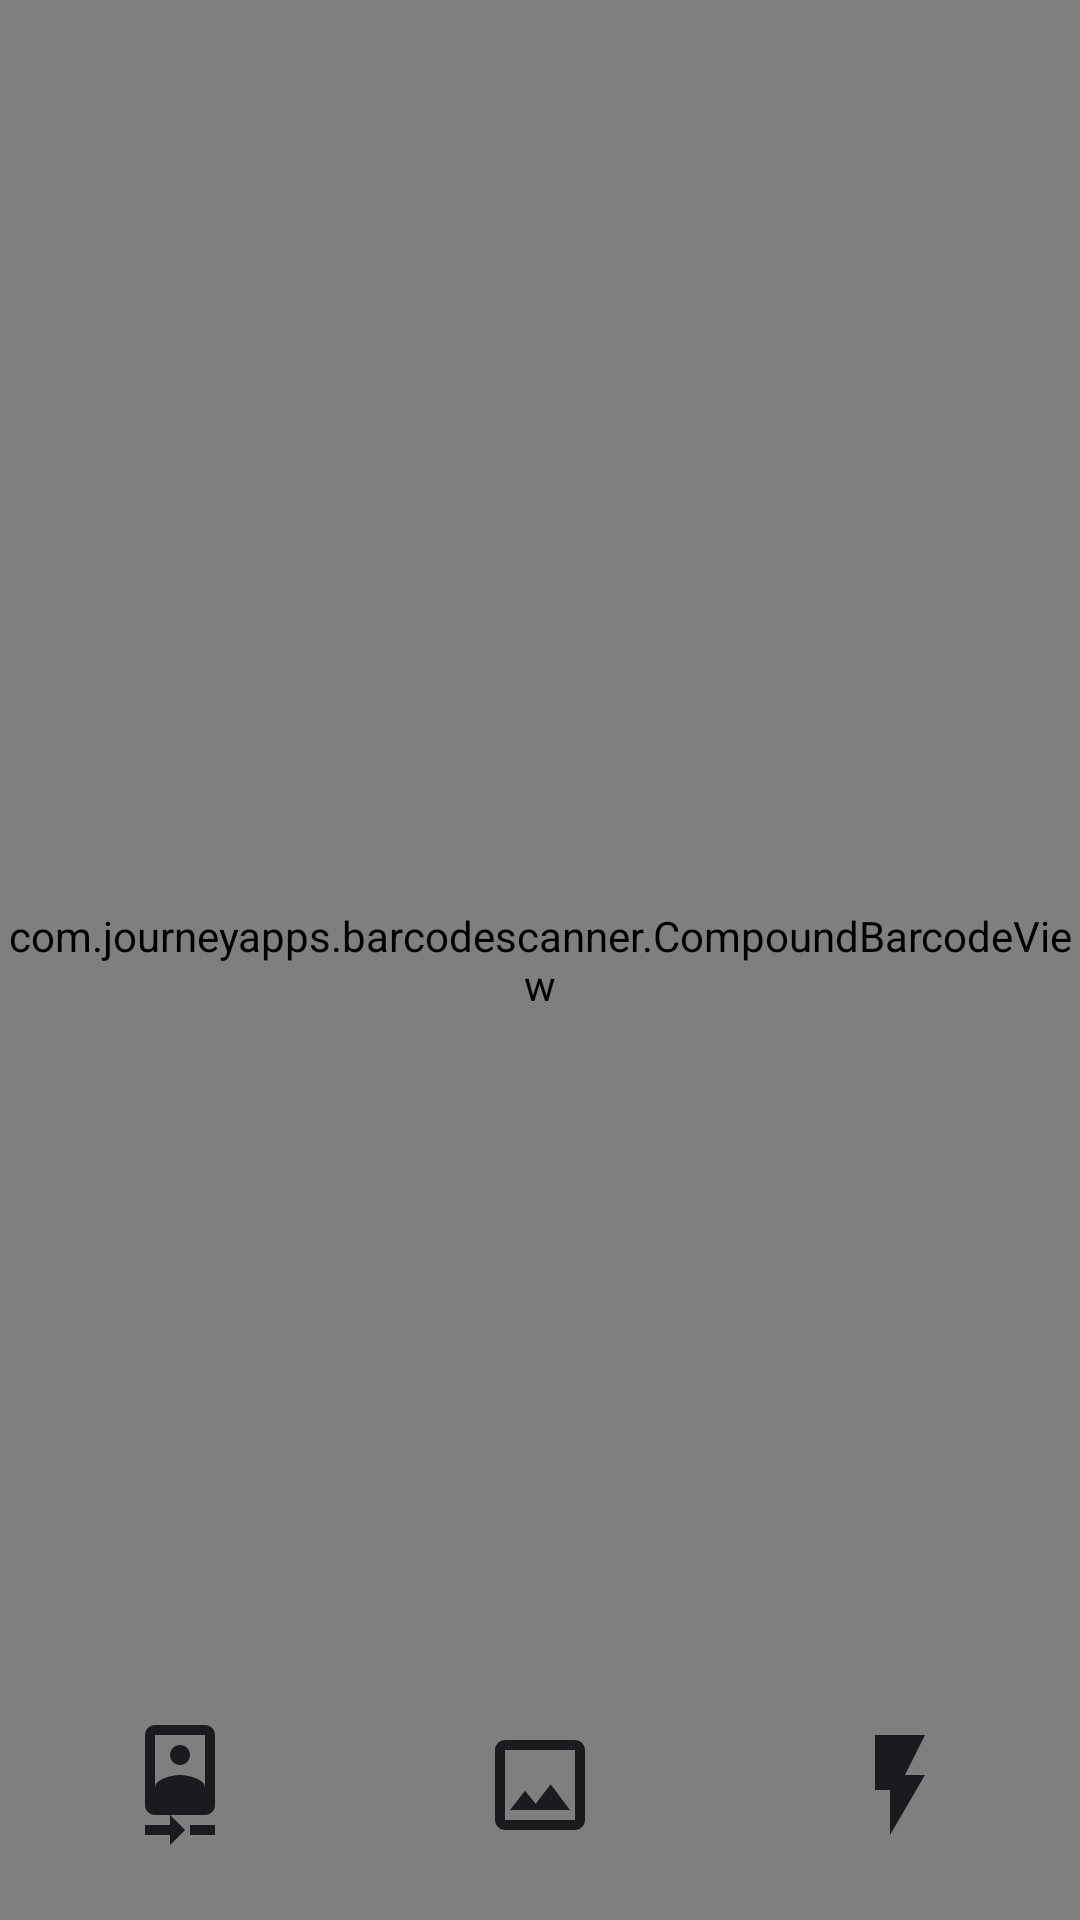

Icon bounding boxes for this 1080×1920 phone screenshot, format (x1, y1, x2, y2):
camera front: (145, 1725, 215, 1845)
flash on: (875, 1735, 925, 1835)
photo for: (495, 1740, 585, 1830)
